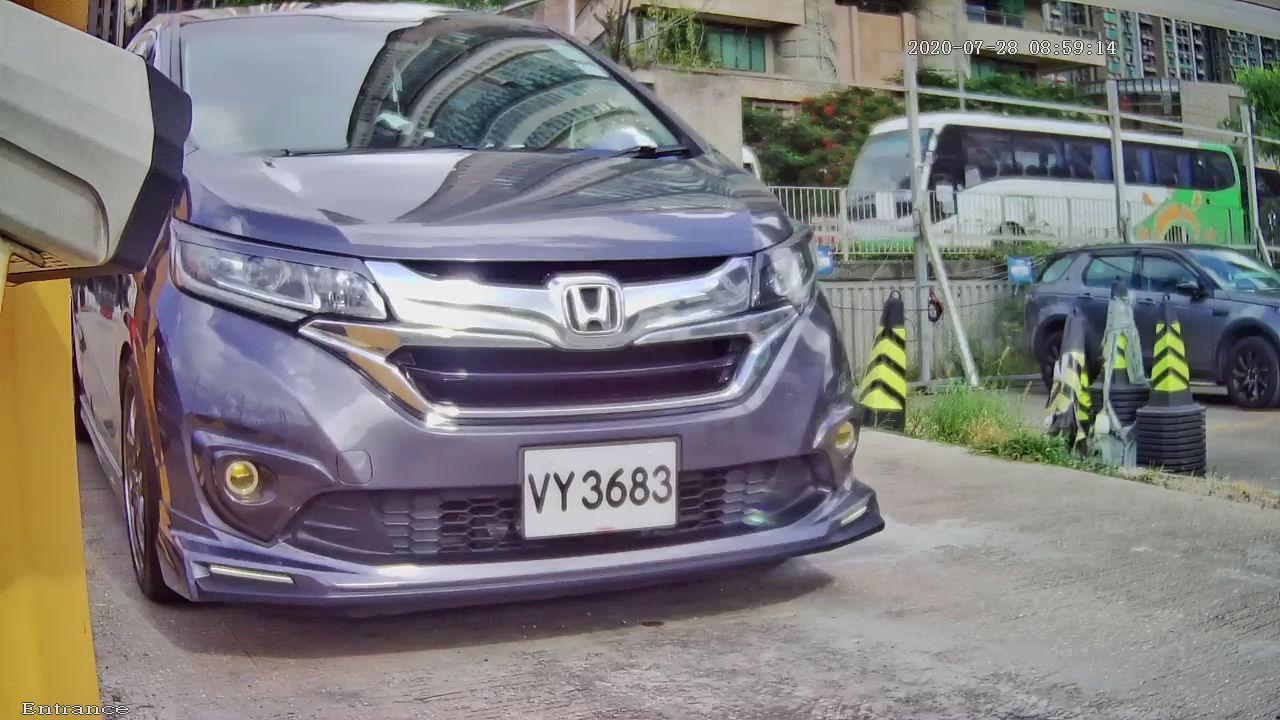privatecar: (6, 1, 1001, 666)
